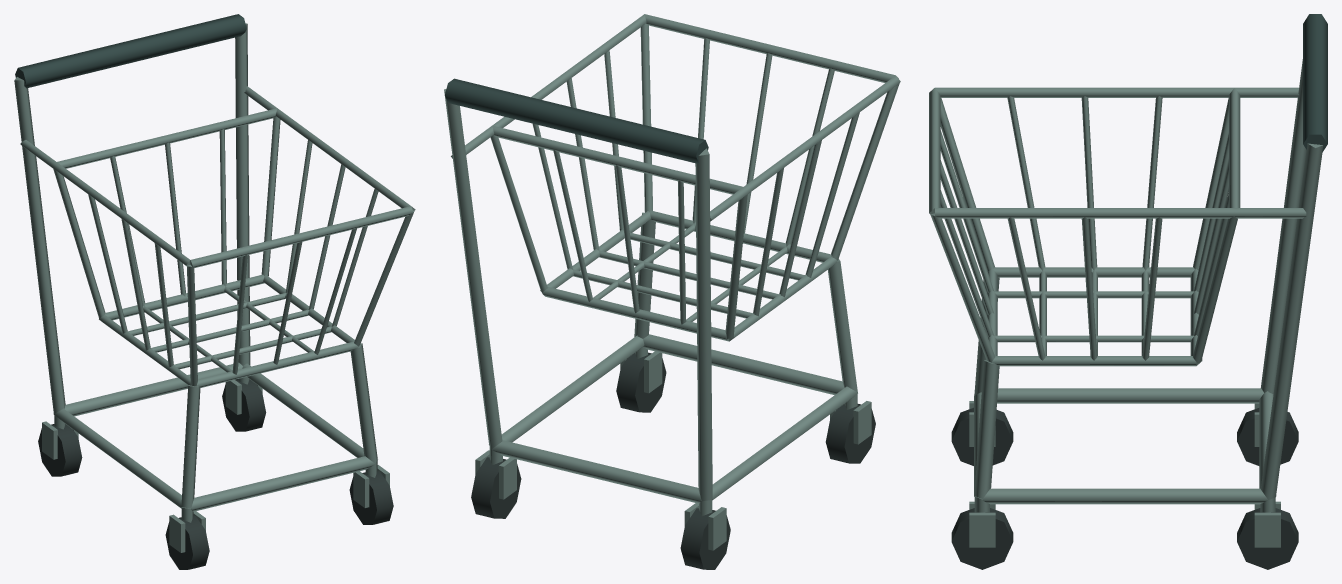
3 renders of one model, left to right at view 1: azimuth 30°, elevation 25°; view 2: azimuth 150°, elevation 25°; view 3: azimuth 270°, elevation 25°, orthographic. The views are drawn at different scales.
Visible parts, largest first — view 1: basket continuous perimeter (×8), lower chassis (×4), continuous rear upright (×2), tire (×4), handle grip, basket side upright (×6), basket corner (×4), front basket support (×2), basket bottom crosswire (×3), basket back upright (×3), connected caster fork (×4), basket front upright (×3); view 2: basket continuous perimeter (×8), lower chassis (×4), continuous rear upright (×2), tire (×4), handle grip, basket corner (×4), basket side upright (×6), basket bottom crosswire (×3), front basket support (×2), basket back upright (×3), basket front upright (×3), connected caster fork (×4) (+1 smaller); view 3: basket continuous perimeter (×8), continuous rear upright (×2), lower chassis (×3), tire (×4), basket side upright (×6), basket corner (×4), handle grip, basket front upright (×3), basket bottom lengthwire (×2), basket back upright (×3), front basket support, connected caster fork (×2) (+2 smaller).
Boxes of the visible parts, bbox=[...] form: basket continuous perimeter (×8): bbox=[52, 108, 415, 387]; lower chassis (×4): bbox=[53, 362, 375, 511]; continuous rear upright (×2): bbox=[14, 23, 250, 413]; tire (×4): bbox=[38, 379, 393, 569]; handle grip: bbox=[15, 14, 246, 88]; basket side upright (×6): bbox=[88, 140, 378, 367]; basket corner (×4): bbox=[53, 116, 414, 386]; front basket support (×2): bbox=[181, 343, 377, 508]; basket bottom crosswire (×3): bbox=[128, 293, 331, 369]; basket back upright (×3): bbox=[110, 129, 226, 306]; connected caster fork (×4): bbox=[42, 380, 369, 552]; basket front upright (×3): bbox=[232, 228, 356, 374]; basket continuous perimeter (×8): bbox=[492, 14, 900, 341]; lower chassis (×4): bbox=[492, 334, 857, 503]; continuous rear upright (×2): bbox=[444, 89, 712, 501]; tire (×4): bbox=[471, 352, 875, 569]; handle grip: bbox=[445, 78, 708, 163]; basket corner (×4): bbox=[490, 23, 899, 338]; basket side upright (×6): bbox=[532, 50, 859, 316]; basket bottom crosswire (×3): bbox=[573, 232, 804, 318]; front basket support (×2): bbox=[634, 212, 857, 392]; basket back upright (×3): bbox=[553, 150, 686, 324]; basket front upright (×3): bbox=[692, 37, 834, 246]; connected caster fork (×4): bbox=[498, 351, 871, 550]; basket continuous perimeter (×8): bbox=[929, 87, 1240, 366]; continuous rear upright (×2): bbox=[1260, 59, 1323, 499]; lower chassis (×3): bbox=[982, 388, 1276, 504]; tire (×4): bbox=[951, 407, 1298, 569]; basket side upright (×6): bbox=[1007, 96, 1162, 360]; basket corner (×4): bbox=[930, 97, 1237, 363]; handle grip: bbox=[1303, 14, 1327, 152]; basket front upright (×3): bbox=[940, 130, 994, 337]; basket bottom lengthwire (×2): bbox=[994, 291, 1194, 342]; basket back upright (×3): bbox=[1194, 134, 1228, 336]; front basket support: bbox=[974, 360, 999, 498]; connected caster fork (×2): bbox=[969, 512, 1280, 547].
Size of the model in its own units: 0.6339 by 1.02 by 0.838.
